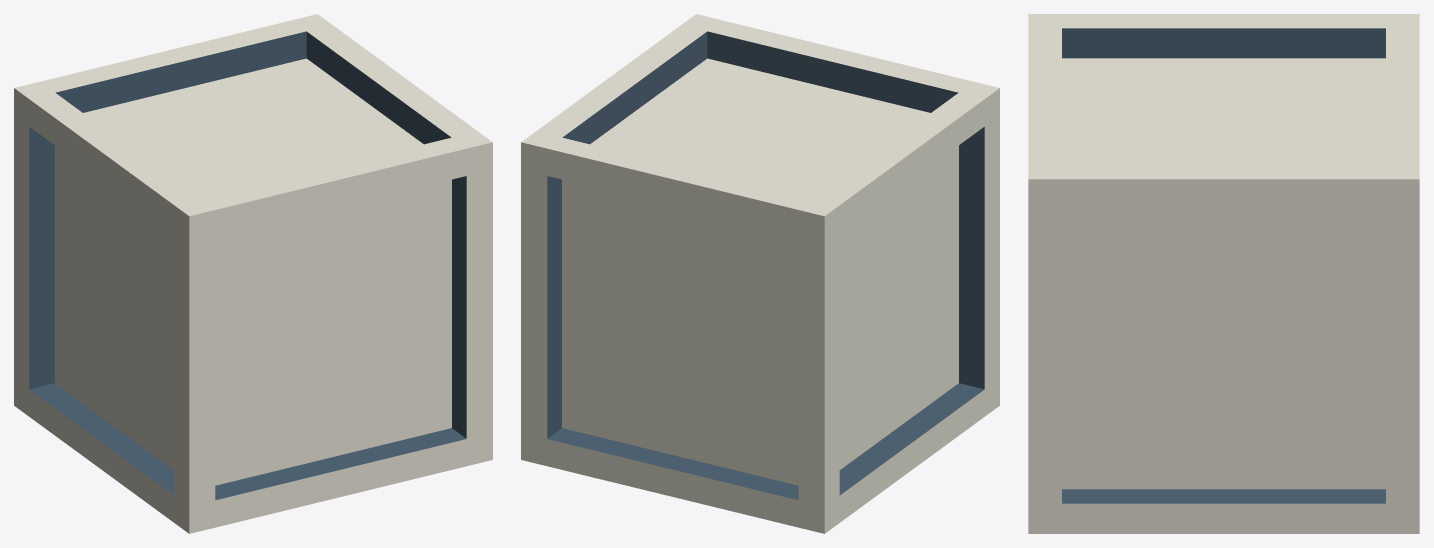
3 views of the same model, side by side, from view 1: azimuth 30°, elevation 25°; view 2: azimuth 150°, elevation 25°; view 3: azimuth 270°, elevation 25° (orthographic). The views are drawn at different scales.
Parts seen in each view (by area): view 1: Cube, LightStrip; view 2: Cube, LightStrip; view 3: Cube, LightStrip.
Boxes of the visible parts, bbox=[...] form: Cube: bbox=[14, 14, 492, 533]; LightStrip: bbox=[55, 58, 451, 485]; Cube: bbox=[521, 14, 999, 533]; LightStrip: bbox=[562, 58, 958, 485]; Cube: bbox=[1028, 14, 1419, 533]; LightStrip: bbox=[1062, 58, 1385, 489].
Size of the model in its own units: 200 by 200 by 200.
Materials: 1 (1 with a texture image).
